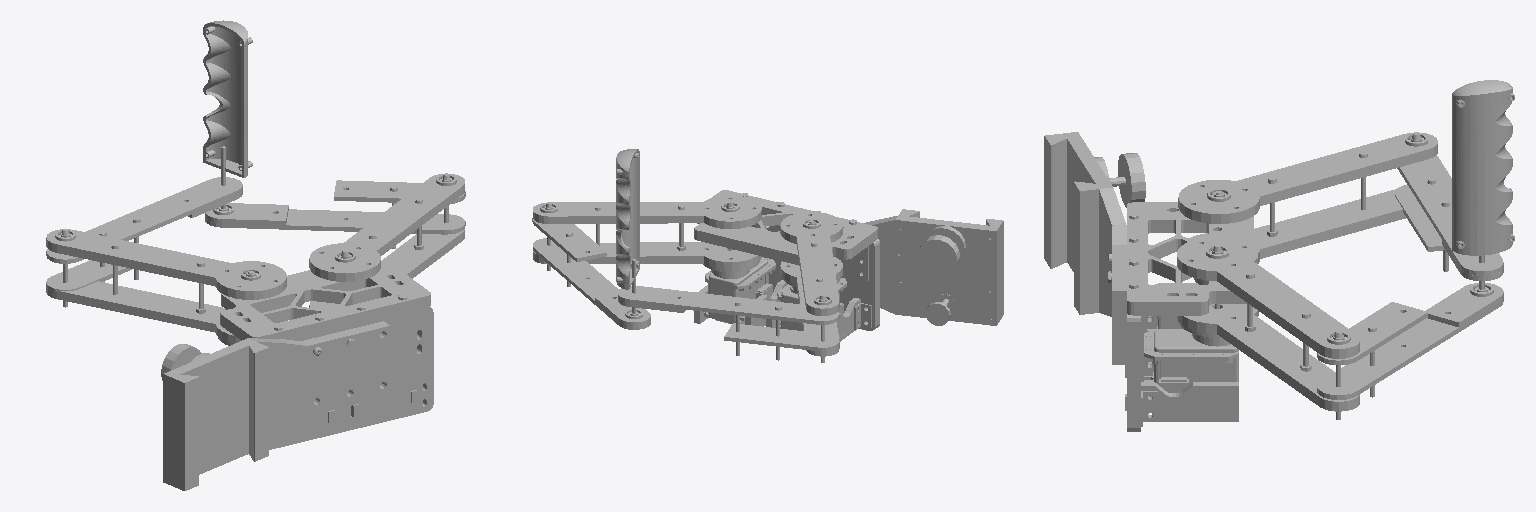
URDF robot description (pento):
<?xml version="1.0" encoding="utf-8"?>
<!-- This URDF was automatically created by SolidWorks to URDF Exporter! Originally created by [author] ([email redacted]) 
     Commit Version: 1.6.0-4-g7f85cfe  Build Version: 1.6.7995.38578
     For more information, please see http://wiki.ros.org/sw_urdf_exporter -->
<robot
  name="pento">
  <link
    name="Link_1">
    <inertial>
      <origin
        xyz="-0.0199413257892108 -0.0326881010817097 -0.0539823305241484"
        rpy="0 0 0" />
      <mass
        value="0.389835137136689" />
      <inertia
        ixx="0.00015774241882171"
        ixy="-4.33075851251135E-05"
        ixz="6.02665925651826E-06"
        iyy="0.000512996561655938"
        iyz="-2.72377701348866E-06"
        izz="0.000492177811827383" />
    </inertial>
    <visual>
      <origin
        xyz="0 0 0"
        rpy="0 0 0" />
      <geometry>
        <mesh
          filename="package://my_package/meshes/Link_1.STL" />
      </geometry>
      <material
        name="">
        <color
          rgba="0.752941176470588 0.752941176470588 0.752941176470588 1" />
      </material>
    </visual>
    <collision>
      <origin
        xyz="0 0 0"
        rpy="0 0 0" />
      <geometry>
        <mesh
          filename="package://my_package/meshes/Link_1.STL" />
      </geometry>
    </collision>
  </link>
  <link
    name="Link_2">
    <inertial>
      <origin
        xyz="0.0495702828045499 -1.71622438482899E-12 -0.0211645200627954"
        rpy="0 0 0" />
      <mass
        value="0.0655866352340545" />
      <inertia
        ixx="6.38196817028964E-06"
        ixy="1.01564332573474E-15"
        ixz="1.29724738063705E-16"
        iyy="0.000113847113994669"
        iyz="-8.70169042332567E-17"
        izz="0.000116612059752427" />
    </inertial>
    <visual>
      <origin
        xyz="0 0 0"
        rpy="0 0 0" />
      <geometry>
        <mesh
          filename="package://my_package/meshes/Link_2.STL" />
      </geometry>
      <material
        name="">
        <color
          rgba="0.752941176470588 0.752941176470588 0.752941176470588 1" />
      </material>
    </visual>
    <collision>
      <origin
        xyz="0 0 0"
        rpy="0 0 0" />
      <geometry>
        <mesh
          filename="package://my_package/meshes/Link_2.STL" />
      </geometry>
    </collision>
  </link>
  <joint
    name="Joint_1_2"
    type="continuous">
    <origin
      xyz="0.029949 0.0017526 0"
      rpy="0 0 0.53734" />
    <parent
      link="Link_1" />
    <child
      link="Link_2" />
    <axis
      xyz="0 0 -1" />
  </joint>
  <link
    name="Link_3">
    <inertial>
      <origin
        xyz="0.0681323965481278 2.99760216648792E-15 -0.0232121045572643"
        rpy="0 0 0" />
      <mass
        value="0.020871872248541" />
      <inertia
        ixx="1.03086571713126E-06"
        ixy="2.52521697400188E-20"
        ixz="-1.2081360240033E-20"
        iyy="2.75270107115966E-05"
        iyz="7.70719318768475E-22"
        izz="2.84221546645072E-05" />
    </inertial>
    <visual>
      <origin
        xyz="0 0 0"
        rpy="0 0 0" />
      <geometry>
        <mesh
          filename="package://my_package/meshes/Link_3.STL" />
      </geometry>
      <material
        name="">
        <color
          rgba="0.752941176470588 0.752941176470588 0.752941176470588 1" />
      </material>
    </visual>
    <collision>
      <origin
        xyz="0 0 0"
        rpy="0 0 0" />
      <geometry>
        <mesh
          filename="package://my_package/meshes/Link_3.STL" />
      </geometry>
    </collision>
  </link>
  <joint
    name="Joint_2_3"
    type="continuous">
    <origin
      xyz="0.13 0 0"
      rpy="0 0 2.0078" />
    <parent
      link="Link_2" />
    <child
      link="Link_3" />
    <axis
      xyz="0 0 -1" />
  </joint>
  <link
    name="Link_4">
    <inertial>
      <origin
        xyz="-0.0246615167632169 -0.000499829688404133 0.0276355679134506"
        rpy="0 0 0" />
      <mass
        value="0.0660845351410077" />
      <inertia
        ixx="4.10506606098931E-05"
        ixy="1.34672878617248E-07"
        ixz="-5.68057512578542E-09"
        iyy="6.47760548114758E-05"
        iyz="9.57998852789668E-10"
        izz="3.21605531286784E-05" />
    </inertial>
    <visual>
      <origin
        xyz="0 0 0"
        rpy="0 0 0" />
      <geometry>
        <mesh
          filename="package://my_package/meshes/Link_4.STL" />
      </geometry>
      <material
        name="">
        <color
          rgba="0.752941176470588 0.752941176470588 0.752941176470588 1" />
      </material>
    </visual>
    <collision>
      <origin
        xyz="0 0 0"
        rpy="0 0 0" />
      <geometry>
        <mesh
          filename="package://my_package/meshes/Link_4.STL" />
      </geometry>
    </collision>
  </link>
  <joint
    name="Joint3_4"
    type="continuous">
    <origin
      xyz="0.14 0 0"
      rpy="0 0 -2.2855" />
    <parent
      link="Link_3" />
    <child
      link="Link_4" />
    <axis
      xyz="0 0 -1" />
  </joint>
  <link
    name="Link5">
    <inertial>
      <origin
        xyz="-0.0810602801359899 -9.56942858287846E-13 -0.0211483179569884"
        rpy="0 0 0" />
      <mass
        value="0.0650308643867626" />
      <inertia
        ixx="6.37467432310732E-06"
        ixy="-5.75231297666946E-16"
        ixz="5.50791399470628E-17"
        iyy="0.000113839820147718"
        iyz="-4.21084525637092E-17"
        izz="0.000116600795160695" />
    </inertial>
    <visual>
      <origin
        xyz="0 0 0"
        rpy="0 0 0" />
      <geometry>
        <mesh
          filename="package://my_package/meshes/Link5.STL" />
      </geometry>
      <material
        name="">
        <color
          rgba="0.752941176470588 0.752941176470588 0.752941176470588 1" />
      </material>
    </visual>
    <collision>
      <origin
        xyz="0 0 0"
        rpy="0 0 0" />
      <geometry>
        <mesh
          filename="package://my_package/meshes/Link5.STL" />
      </geometry>
    </collision>
  </link>
  <joint
    name="Joint4_5"
    type="continuous">
    <origin
      xyz="-0.14 0 0.003"
      rpy="0 0 1.8962" />
    <parent
      link="Link_4" />
    <child
      link="Link5" />
    <axis
      xyz="0 0 -1" />
  </joint>
</robot>

--- What the picture shows (computed from the rendered views, not written in the file) ---
3 views of the same robot in one strip: view 1: azimuth 30°, elevation 25°; view 2: azimuth 150°, elevation 25°; view 3: azimuth 270°, elevation 25° (orthographic).
Model pento with 5 links and 4 joints (4 continuous), rooted at Link_1, posed all joints at 0.
Visible links, largest first — view 1: Link_1, Link_4, Link5, Link_2, Link_3; view 2: Link_1, Link_4, Link_2, Link5, Link_3; view 3: Link_1, Link_4, Link_2, Link5, Link_3.
Link boxes in pixels (box(x1,y1,x2,y2)): Link_1: box(161, 269, 433, 490); Link_4: box(46, 20, 252, 292); Link5: box(46, 229, 286, 345); Link_2: box(309, 173, 464, 309); Link_3: box(205, 180, 465, 248); Link_1: box(694, 190, 1003, 341); Link_4: box(616, 149, 839, 360); Link_2: box(533, 195, 761, 278); Link5: box(780, 212, 842, 362); Link_3: box(532, 218, 650, 329); Link_1: box(1044, 132, 1253, 431); Link_4: box(1395, 80, 1514, 289); Link_2: box(1177, 237, 1359, 419); Link5: box(1178, 132, 1437, 284); Link_3: box(1317, 283, 1503, 399).
Bounding box of the posed robot: 0.2997 × 0.2587 × 0.196 m (x, y, z).
Meshes: 5 distinct files referenced, 5 mesh visuals loaded (5 binary STL).